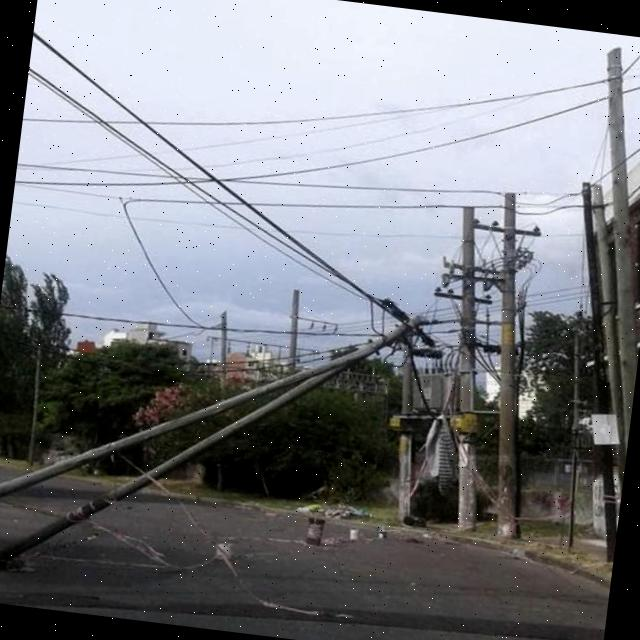Broken Pole: (0, 339, 376, 573), (0, 322, 385, 510)
